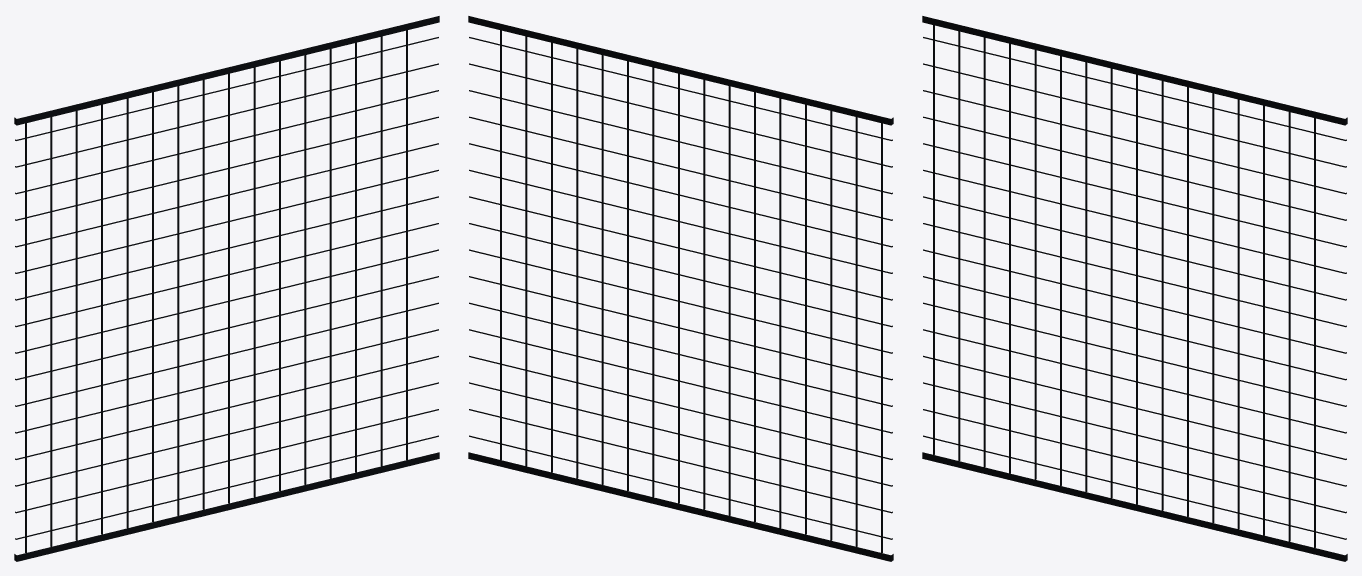
The model's file is v3_net.glb.
The picture shows the model from 3 angles, left to right: view 1: azimuth 30°, elevation 25°; view 2: azimuth 150°, elevation 25°; view 3: azimuth 330°, elevation 25°; orthographic projection.
Parts seen in each view (by area): view 1: Ball_Net_Cord; view 2: Ball_Net_Cord; view 3: Ball_Net_Cord.
Boxes of the visible parts, x1,y1,x2,y2 form: Ball_Net_Cord: (14,16,439,561); Ball_Net_Cord: (468,16,893,561); Ball_Net_Cord: (922,16,1347,561).
Size of the model in its own units: 2 by 2 by 0.02.
1 material, 1 textured.
